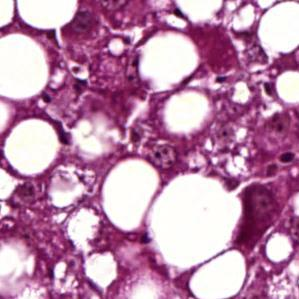steatosis: (7, 118, 66, 176)
